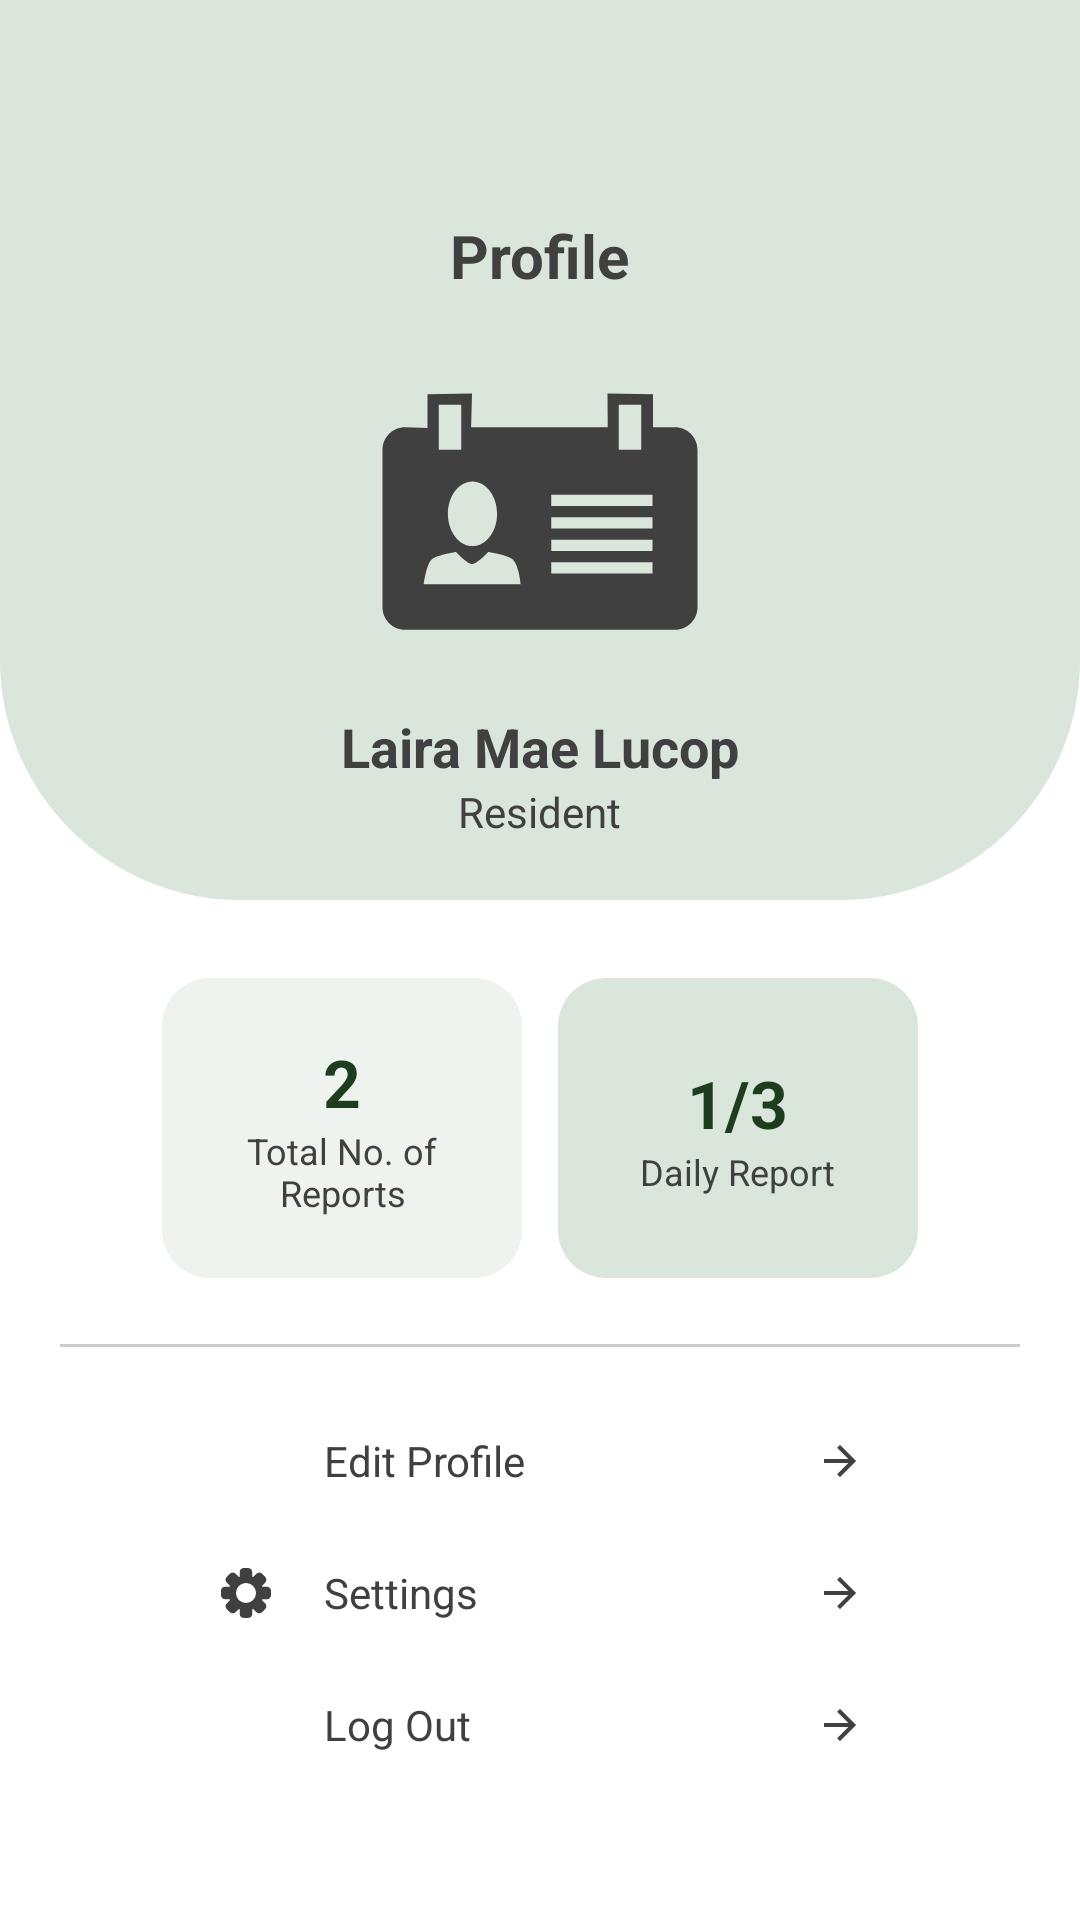

Where icons sit on this 1080px x 1920px app screen, as (x1, y1, x2, y2):
forward: (824, 1445, 856, 1477), (824, 1577, 856, 1609), (824, 1709, 856, 1741)
